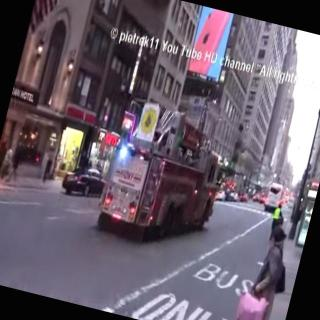Fire_truck: (91, 94, 236, 256)
